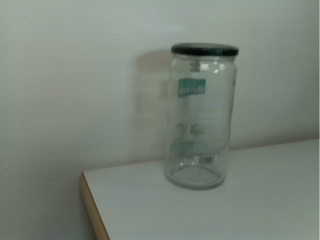pote cristal: (161, 41, 242, 192)
